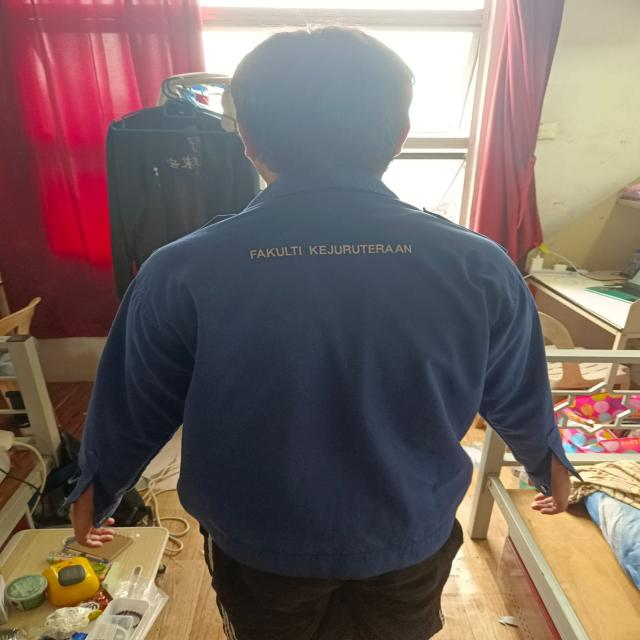person_with_labcoat: (68, 26, 577, 640)
